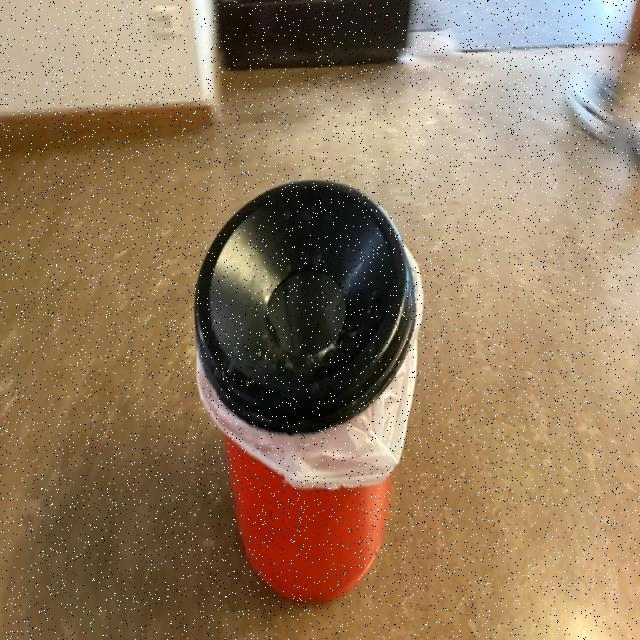garbage container: (186, 163, 447, 639)
